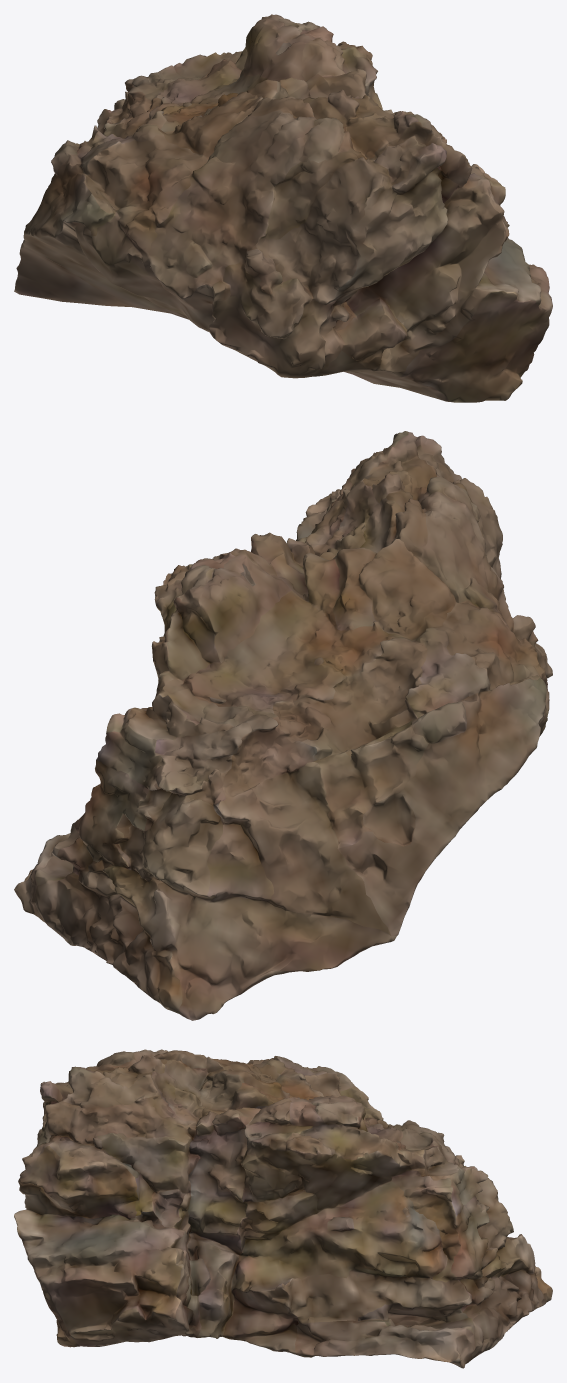
Rendered from boulder_01.glb.
3 renders of one model, top to bottom at view 1: azimuth 30°, elevation 25°; view 2: azimuth 150°, elevation 25°; view 3: azimuth 270°, elevation 25°, orthographic. The views are drawn at different scales.
Visible parts, largest first — view 1: boulder_01; view 2: boulder_01; view 3: boulder_01.
Part boxes in pixels (x1,y1,x2,y2): boulder_01: [14, 14, 552, 402]; boulder_01: [14, 431, 552, 1020]; boulder_01: [14, 1049, 552, 1368].
Bounding box in the file's own units: 1.27 × 1 × 1.83.
Materials: 1 (1 with a texture image).
